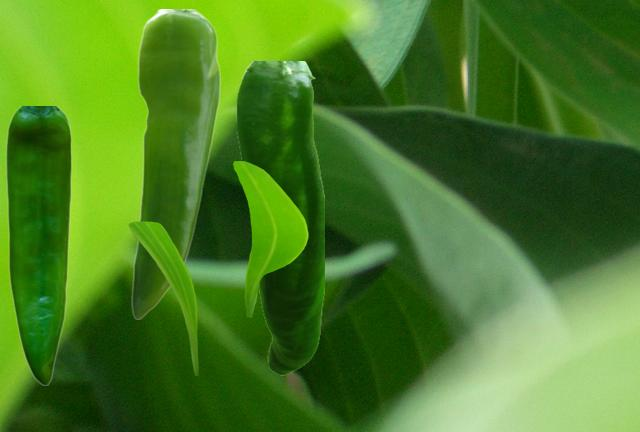green_chili: (236, 61, 323, 374), (131, 9, 219, 318), (5, 106, 71, 384)
